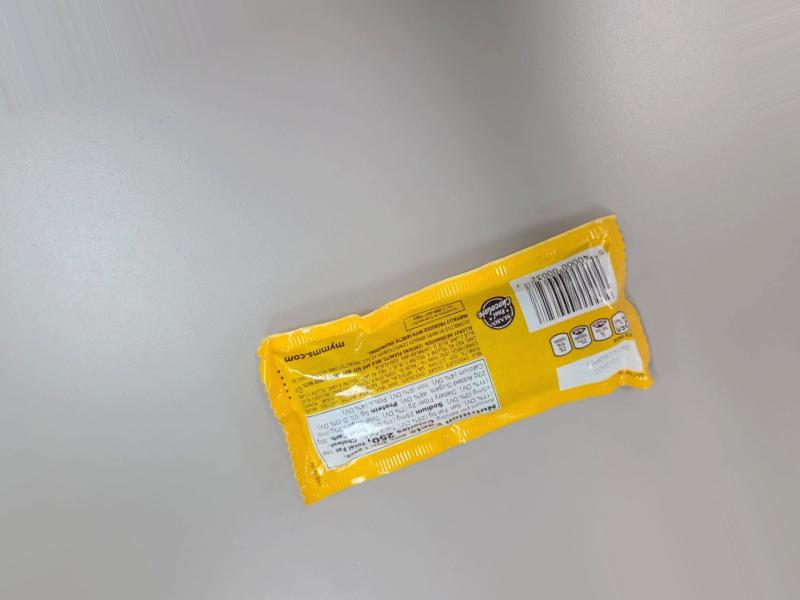m&m: (271, 213, 650, 494)
